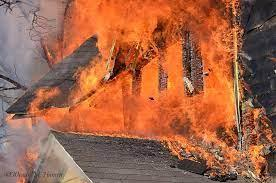fire: (77, 2, 236, 136), (33, 91, 75, 132)
